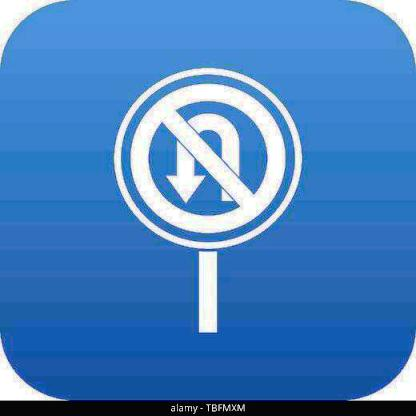No U-turn: (113, 60, 305, 251)
